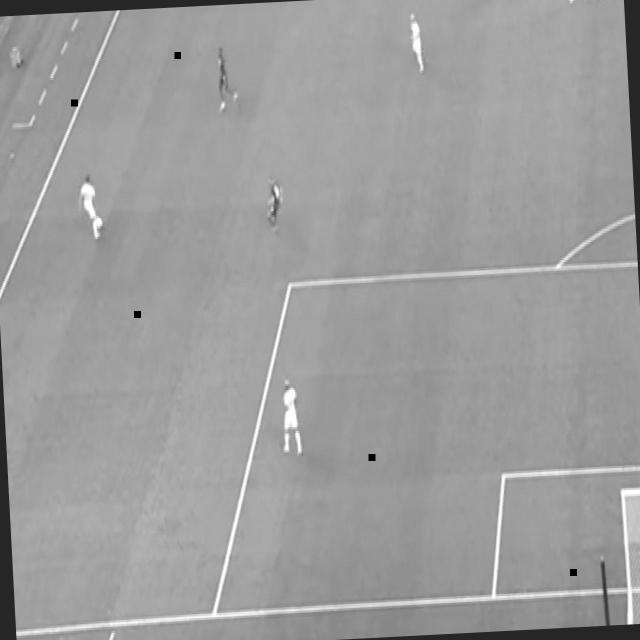player-white: (282, 372, 302, 470), (216, 38, 238, 122), (79, 173, 104, 246), (406, 5, 424, 81), (266, 174, 282, 244), (562, 0, 578, 10)
